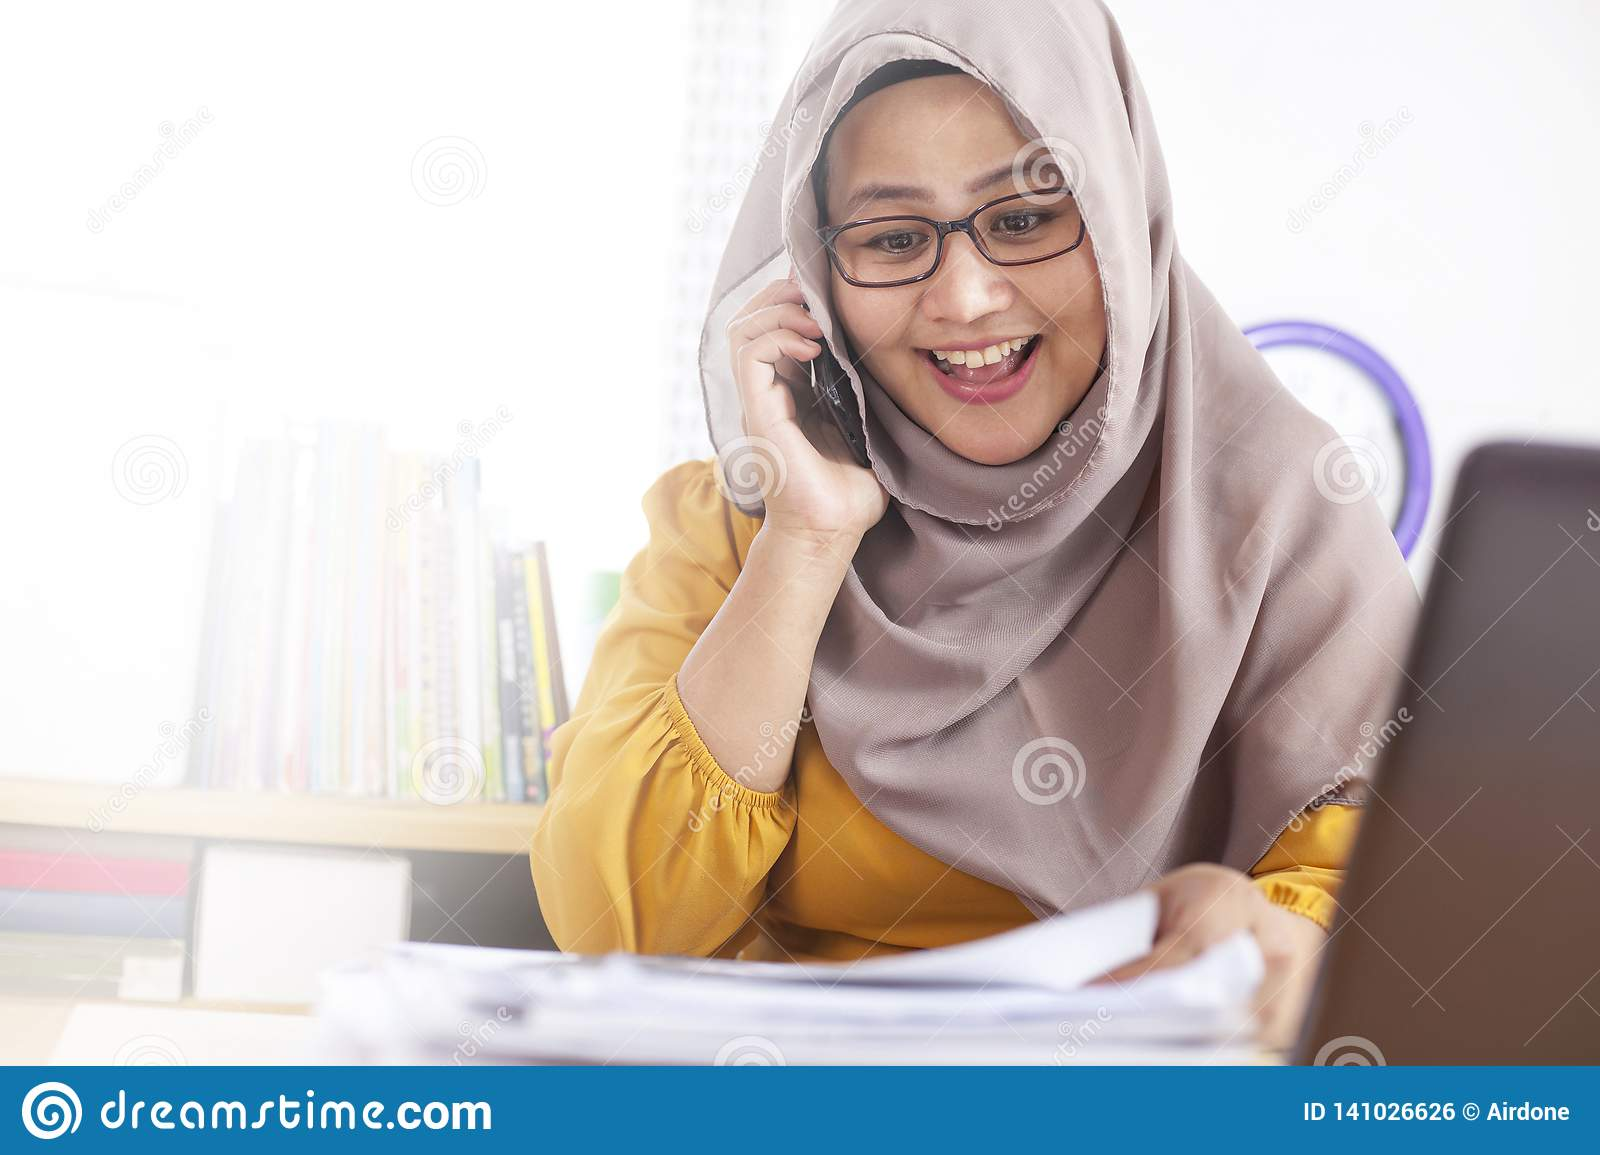phone: (784, 279, 881, 482)
talk: (730, 137, 1088, 618)
